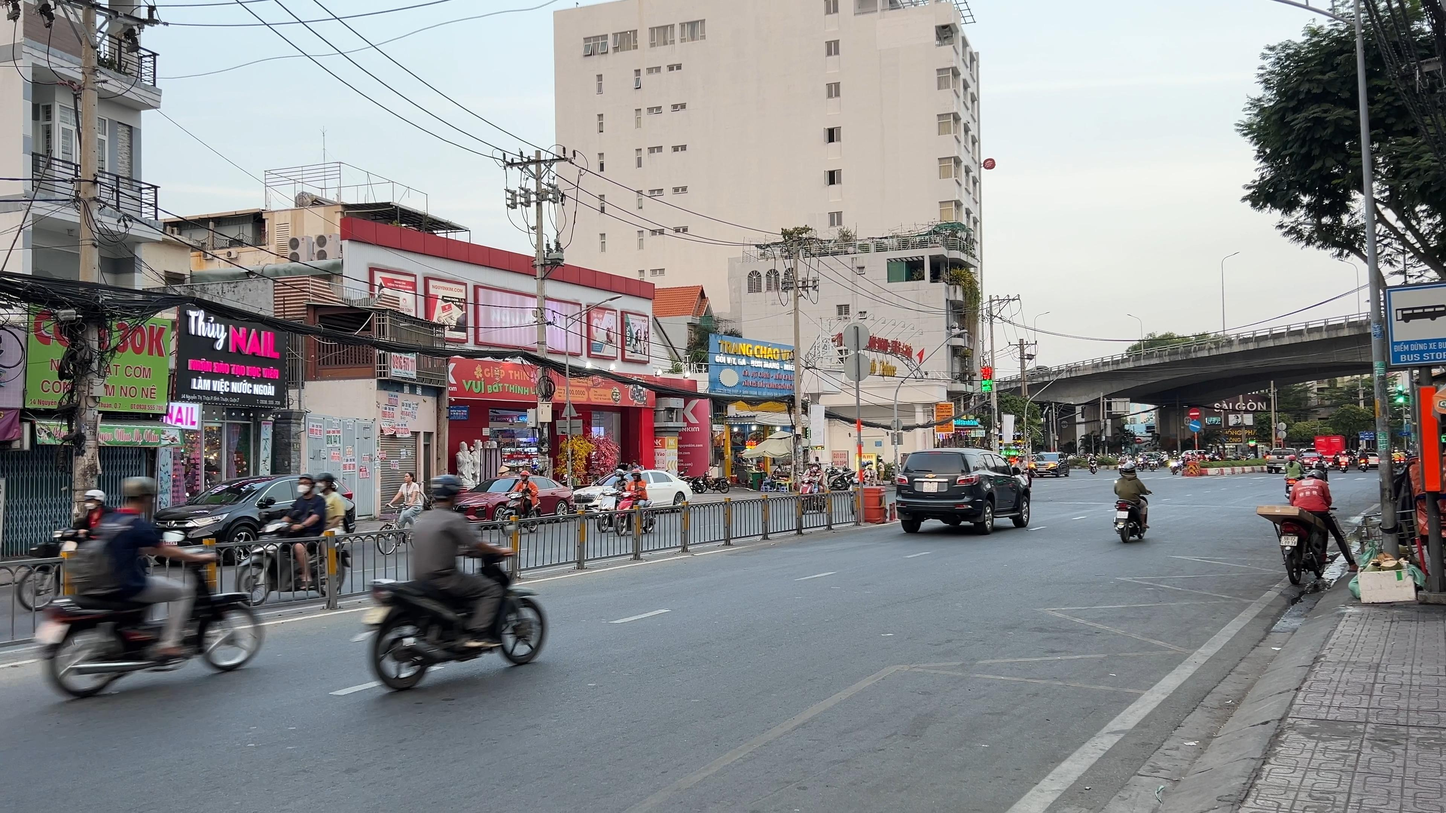bicyclist: (377, 472, 425, 554)
driver: (32, 476, 263, 699), (361, 475, 546, 691), (234, 471, 352, 607), (1255, 470, 1359, 585), (1113, 463, 1154, 543), (501, 469, 542, 537), (615, 468, 656, 536), (597, 469, 630, 533), (798, 461, 829, 515), (1281, 455, 1309, 500)
helmet: (120, 477, 157, 513), (429, 474, 464, 503), (295, 473, 315, 496), (84, 490, 105, 510), (315, 472, 334, 494), (1307, 469, 1326, 481), (1121, 463, 1135, 475), (631, 468, 642, 481), (520, 470, 530, 482), (615, 471, 624, 482), (1288, 454, 1296, 462), (1317, 454, 1323, 460)
no-helmet: (404, 472, 414, 483)
